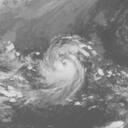cyclone: (33, 34, 98, 102)
